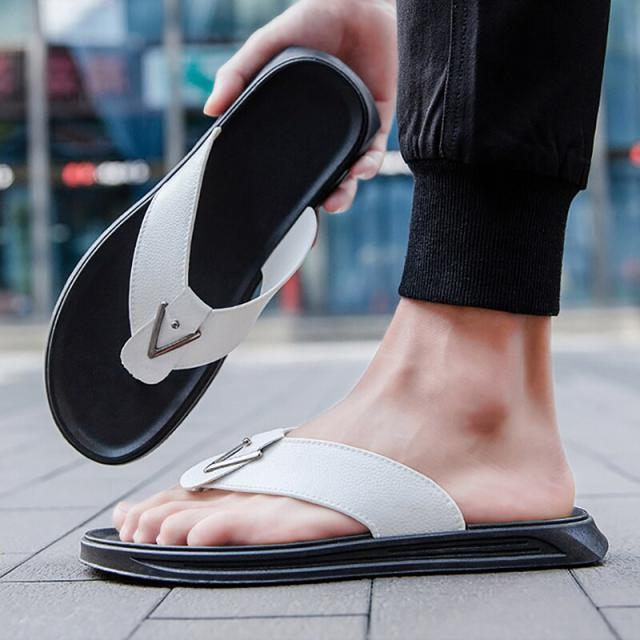Sandals: (82, 387, 602, 589)
